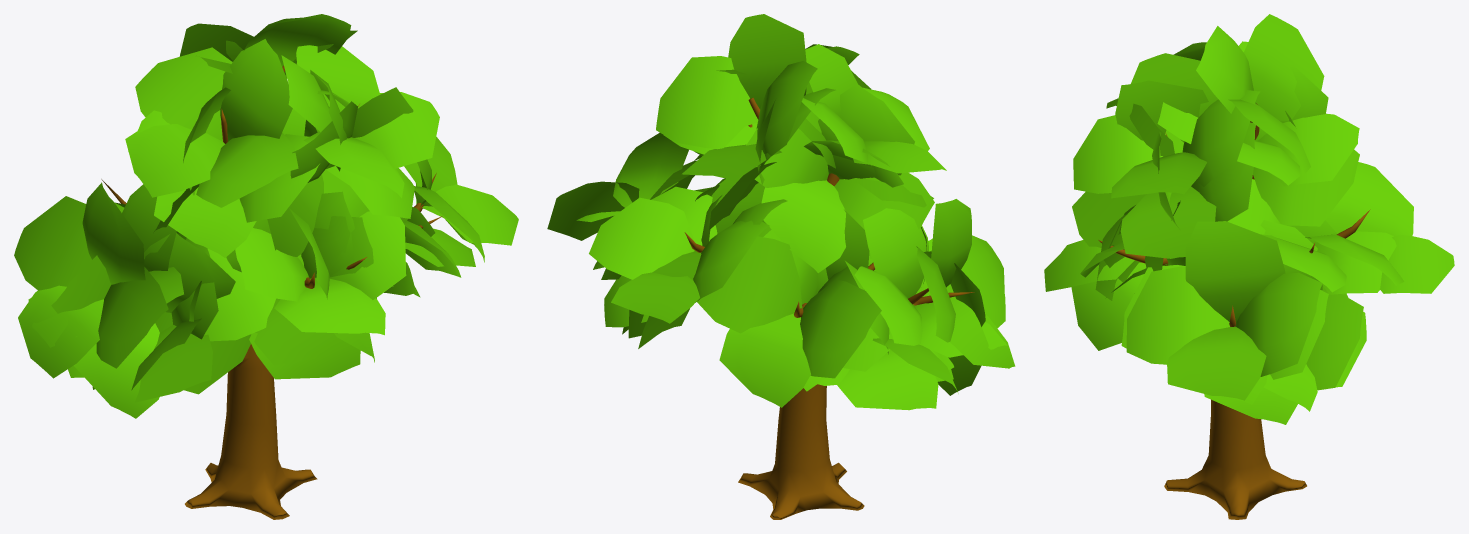
File: oak_tree_mesh.glb
3 renders of one model, left to right at view 1: azimuth 30°, elevation 25°; view 2: azimuth 150°, elevation 25°; view 3: azimuth 270°, elevation 25°, orthographic. The views are drawn at different scales.
Parts seen in each view (by area): view 1: tree_oak_mesh; view 2: tree_oak_mesh; view 3: tree_oak_mesh.
Part boxes in pixels (left/top/right/bottom): tree_oak_mesh: left=14, top=14, right=518, bottom=519; tree_oak_mesh: left=547, top=14, right=1015, bottom=519; tree_oak_mesh: left=1044, top=14, right=1454, bottom=519.
Size of the model in its own units: 8.99 by 8.55 by 6.75.
